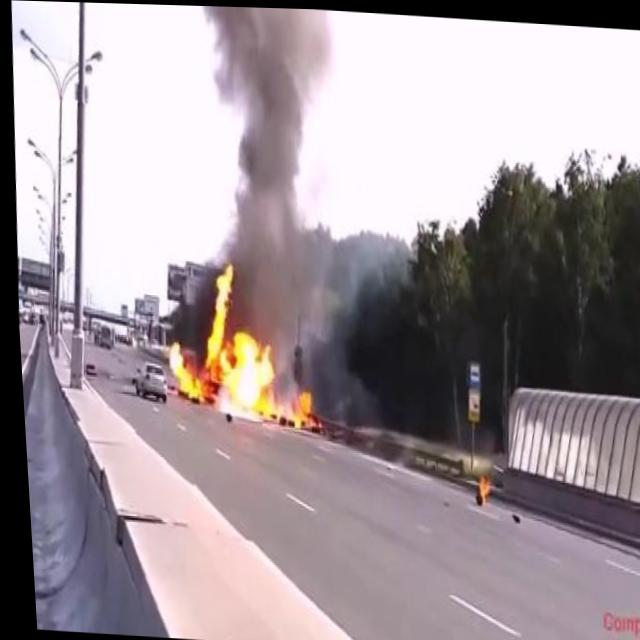fire: (153, 254, 324, 433), (470, 468, 485, 504)
